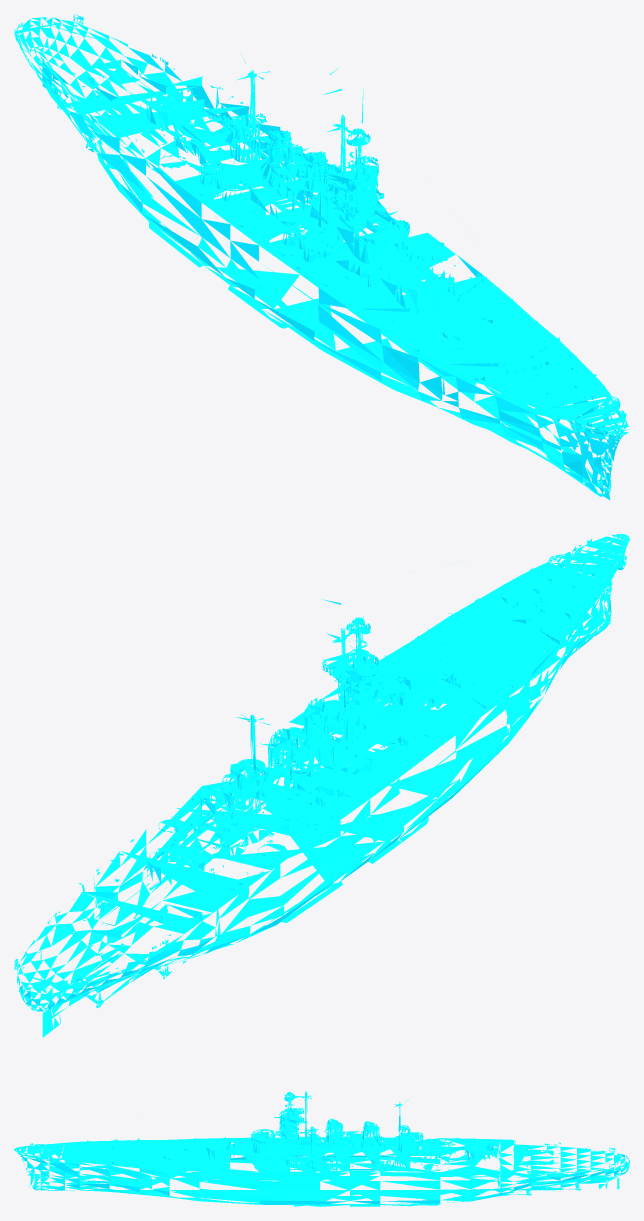
Rendered from Lepanto.glb.
The picture shows the model from 3 angles, top to bottom: view 1: azimuth 30°, elevation 25°; view 2: azimuth 150°, elevation 25°; view 3: azimuth 270°, elevation 25°; orthographic projection. The views are drawn at different scales.
Bounding box in the file's own units: 2.58 × 3.93 × 17.75.
